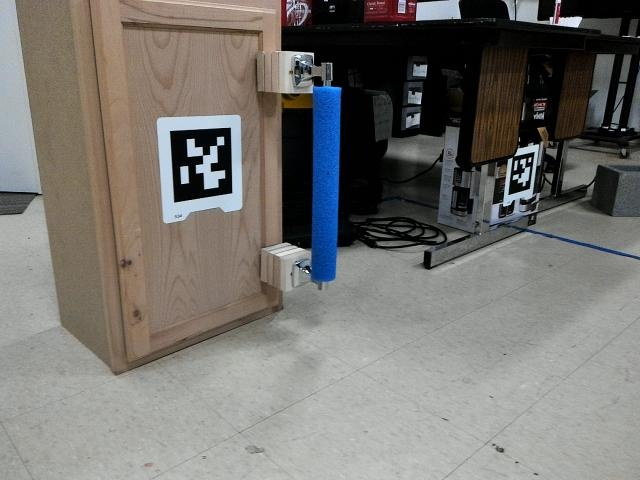noodle_handle: (300, 75, 351, 286)
